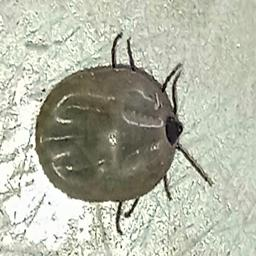Rhipicephalus sanguineus: (35, 32, 210, 235)
